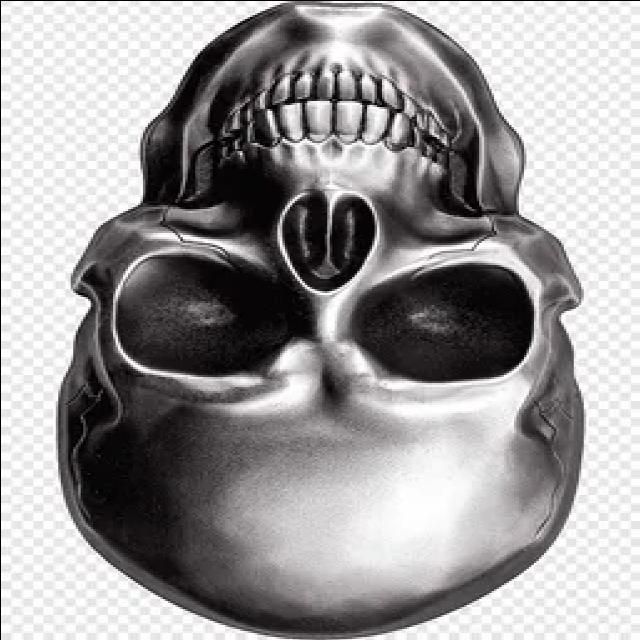skull: (46, 0, 590, 640)
